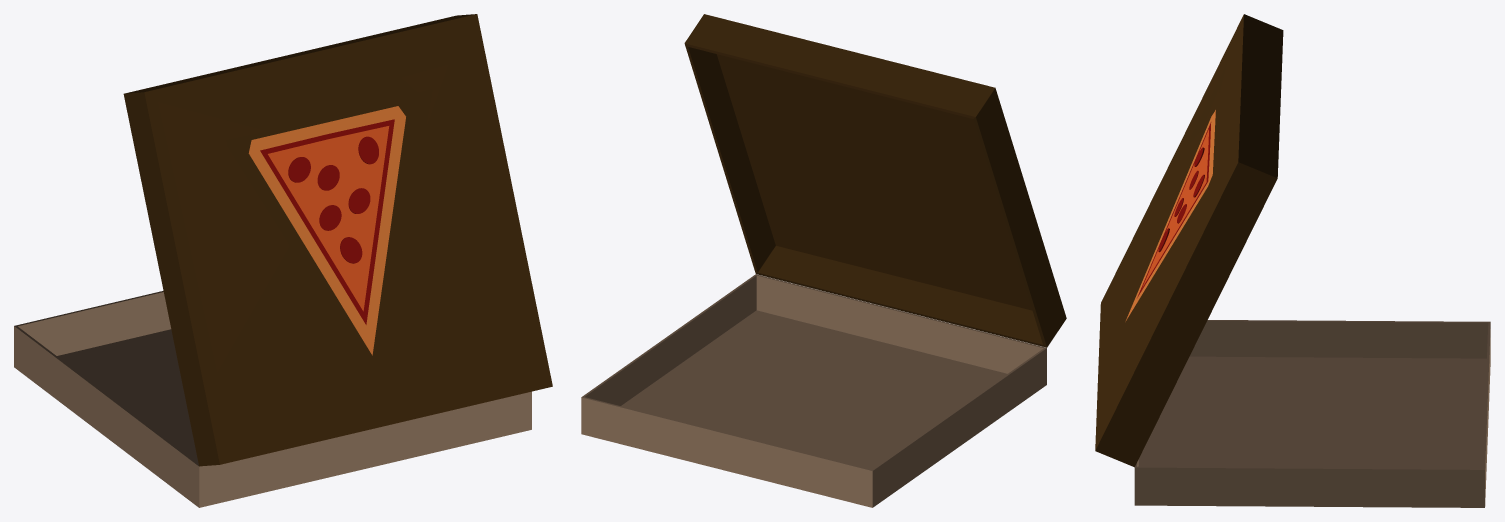
The model's file is Pizza Box 2.fbx.
The picture shows the model from 3 angles, left to right: view 1: azimuth 30°, elevation 25°; view 2: azimuth 150°, elevation 25°; view 3: azimuth 270°, elevation 25°; orthographic projection. The views are drawn at different scales.
Visible parts, largest first — view 1: Pizza Box; view 2: Pizza Box; view 3: Pizza Box.
Part boxes in pixels (<box>): Pizza Box: <box>14,14,552,507</box>; Pizza Box: <box>581,14,1066,507</box>; Pizza Box: <box>1095,14,1490,507</box>.
Bounding box in the file's own units: 0.4058 × 0.3897 × 0.3661.
